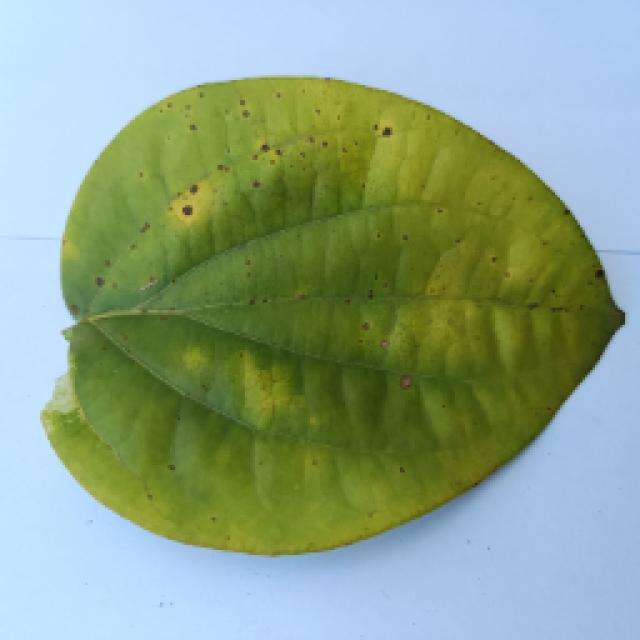slow-decline: (33, 95, 615, 565)
